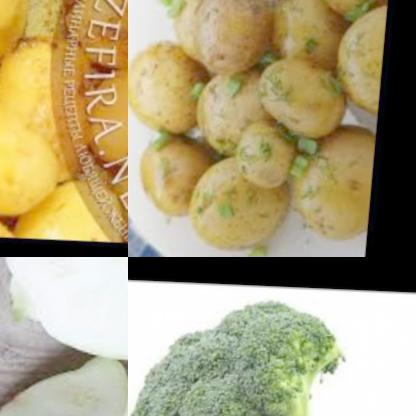broccoli: (128, 292, 416, 416)
potato: (0, 0, 128, 247), (188, 143, 313, 253), (291, 112, 381, 238), (129, 120, 225, 224), (128, 41, 210, 138), (163, 0, 272, 71), (254, 51, 348, 132), (321, 0, 388, 108), (259, 0, 345, 67), (234, 112, 303, 193), (195, 61, 257, 150)
squash-patisson: (0, 257, 128, 372), (0, 349, 128, 416)
